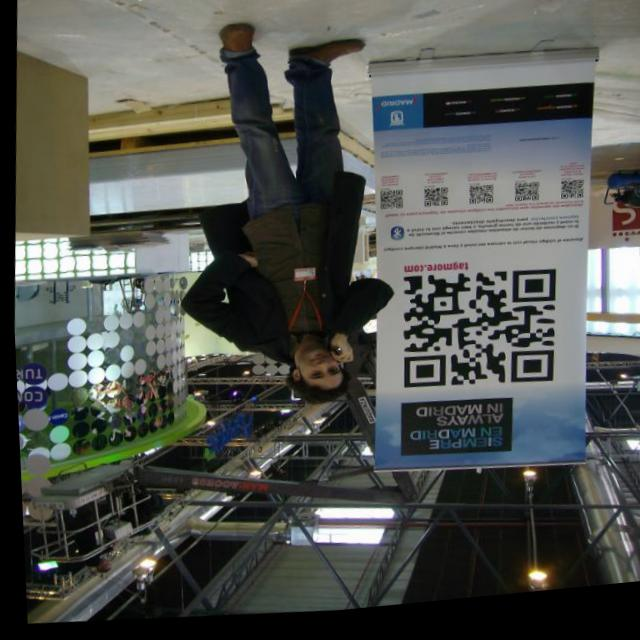qrcode: (395, 272, 558, 403), (422, 196, 447, 217), (467, 193, 492, 214), (378, 198, 402, 218), (559, 191, 582, 211), (513, 193, 537, 212)
